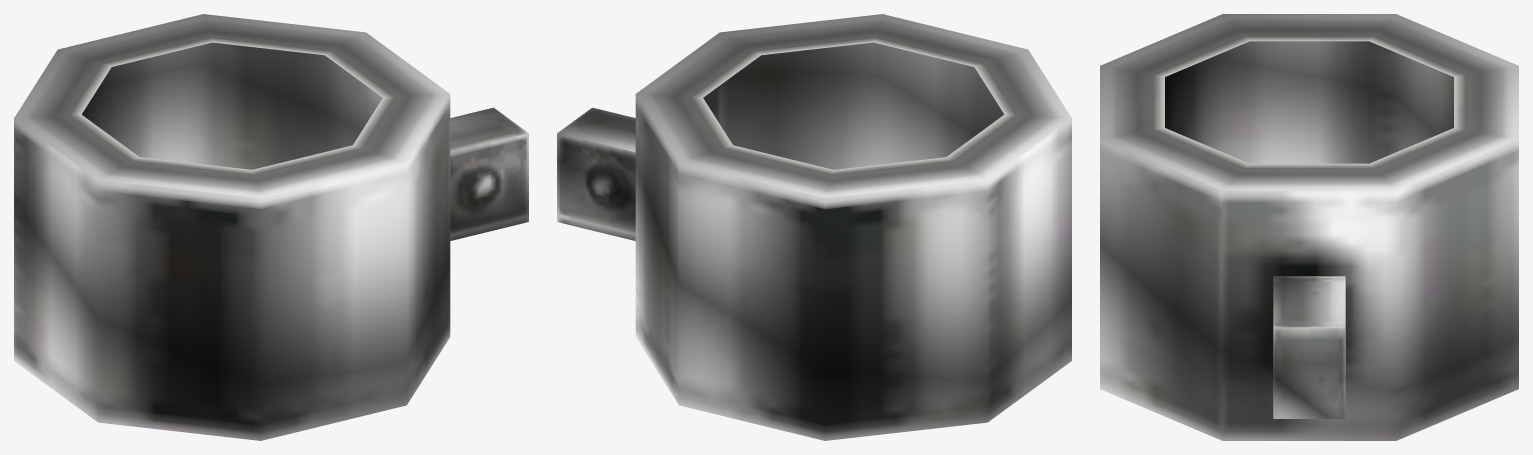
Rendered from INST_SWORDLIGHT_MANACLE.fbx.
The picture shows the model from 3 angles, left to right: view 1: azimuth 30°, elevation 25°; view 2: azimuth 150°, elevation 25°; view 3: azimuth 270°, elevation 25°; orthographic projection. The views are drawn at different scales.
Visible parts, largest first — view 1: INST_SWORDLIGHT_MANACLE; view 2: INST_SWORDLIGHT_MANACLE; view 3: INST_SWORDLIGHT_MANACLE.
Boxes of the visible parts, x1,y1,x2,y2 form: INST_SWORDLIGHT_MANACLE: (14,14,528,440); INST_SWORDLIGHT_MANACLE: (557,14,1071,440); INST_SWORDLIGHT_MANACLE: (1100,14,1518,440).
Bounding box in the file's own units: 1790 × 911 × 1385.
1 material, 1 textured.
